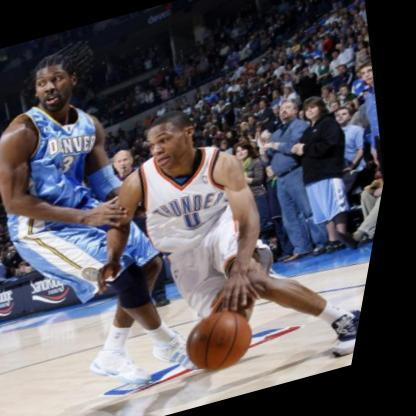basketball: (188, 304, 275, 378)
